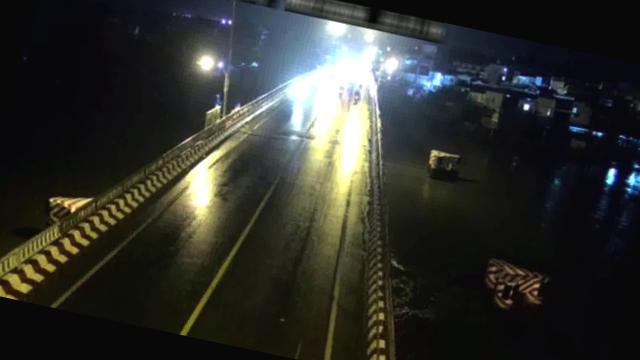Bike: (351, 87, 362, 101)
